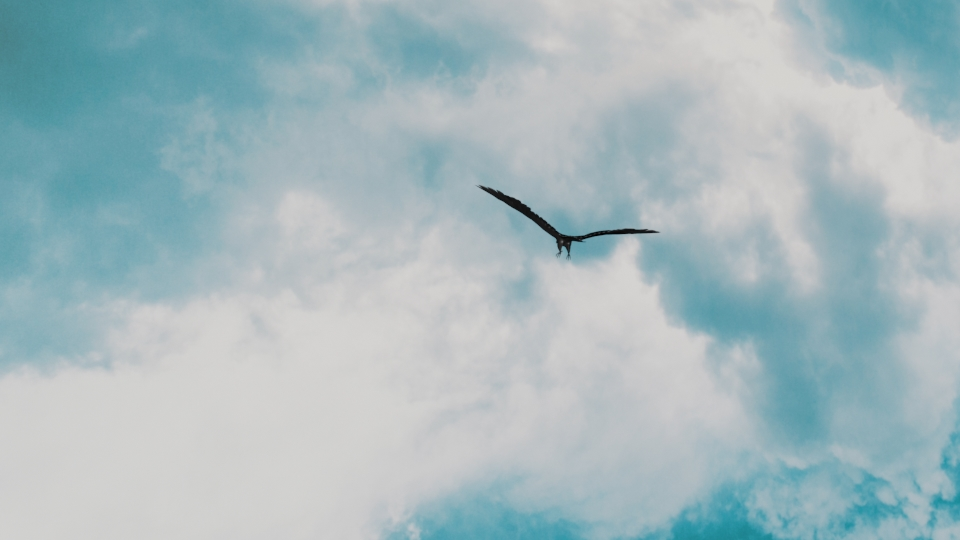bird: (477, 186, 666, 262)
